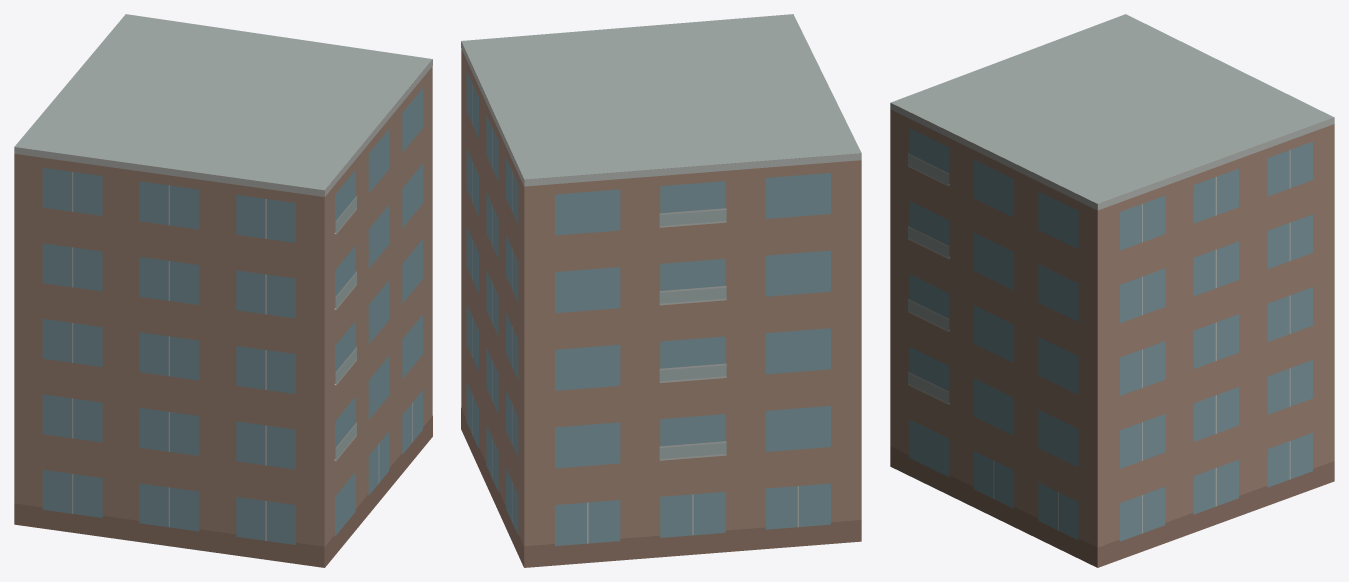
The model's file is survey-upis-32893260.glb.
The picture shows the model from 3 angles, left to right: view 1: azimuth 30°, elevation 25°; view 2: azimuth 150°, elevation 25°; view 3: azimuth 270°, elevation 25°; orthographic projection. The views are drawn at different scales.
Parts seen in each view (by area): view 1: survey-upis-32893260.tmp; view 2: survey-upis-32893260.tmp; view 3: survey-upis-32893260.tmp.
Boxes of the visible parts, x1,y1,x2,y2 form: survey-upis-32893260.tmp: [14, 14, 432, 567]; survey-upis-32893260.tmp: [461, 14, 861, 567]; survey-upis-32893260.tmp: [890, 14, 1334, 567].
Size of the model in its own units: 15.24 by 13.6 by 15.05.
